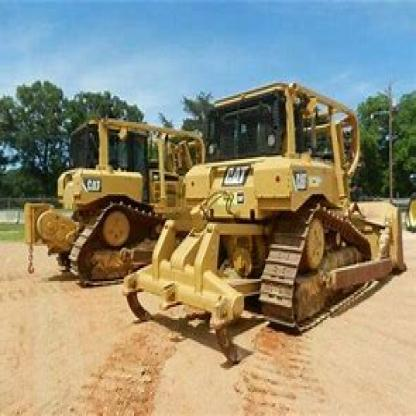bull_dozer/loader/grader: (120, 76, 414, 331)
